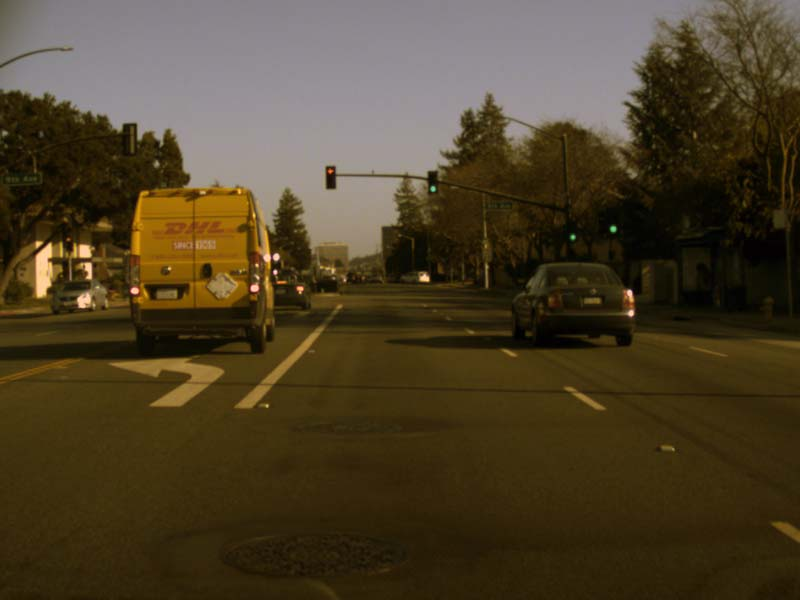Green: (604, 206, 618, 235), (427, 171, 438, 194), (567, 221, 577, 241)
Red: (326, 166, 335, 189)
